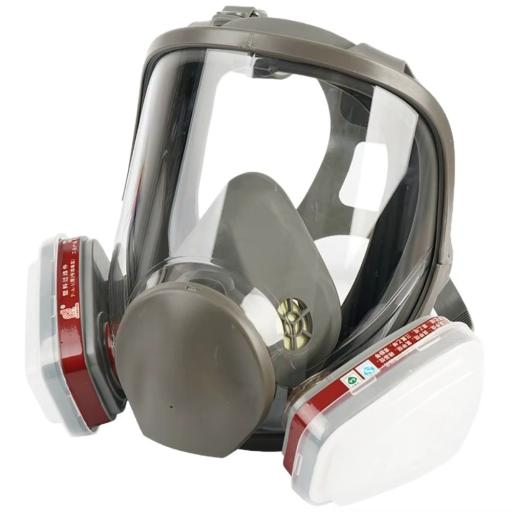mask: (10, 11, 512, 509)
